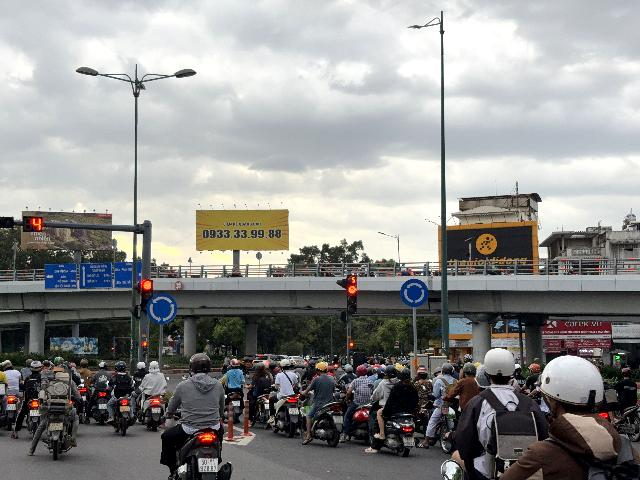noi-giao-nhau-chay-theo-vong-xuyen: (146, 292, 177, 325), (400, 278, 429, 307)
